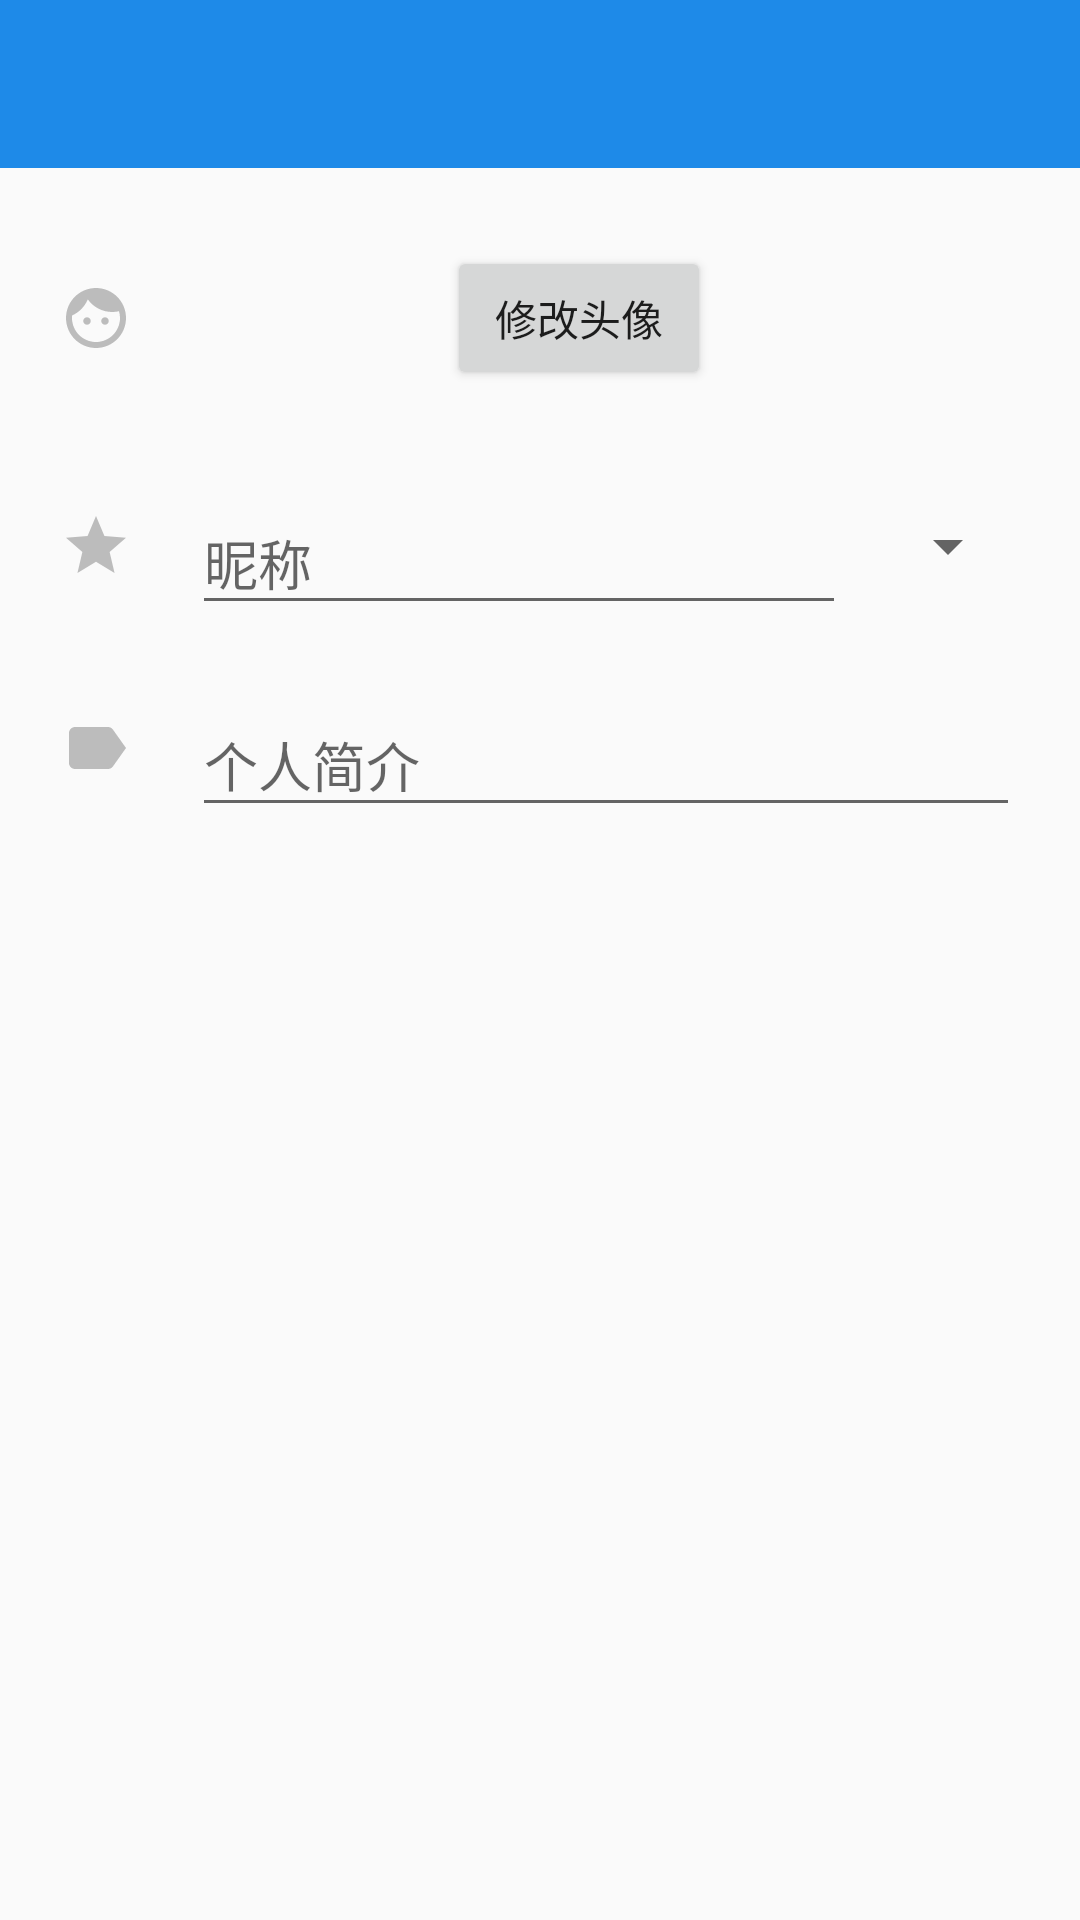

Icon click points for this 1080×1920 phone screenshot, format (x=x, y=y):
face: (x=96, y=318)
grade: (x=96, y=544)
